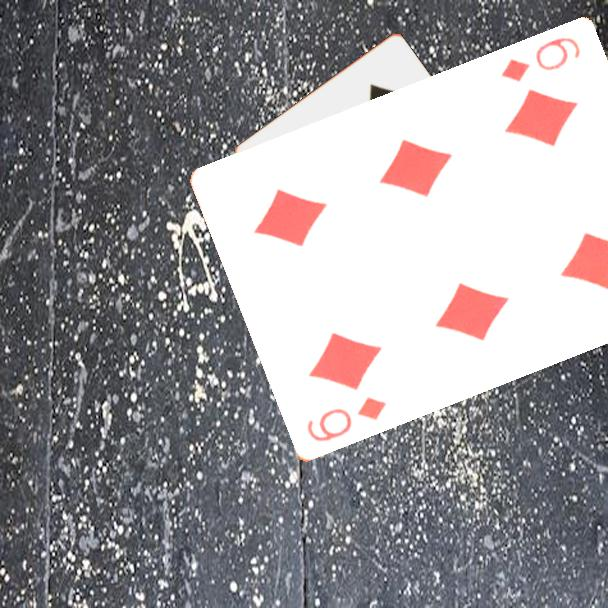d06: (303, 393, 389, 446), (497, 34, 583, 86)
